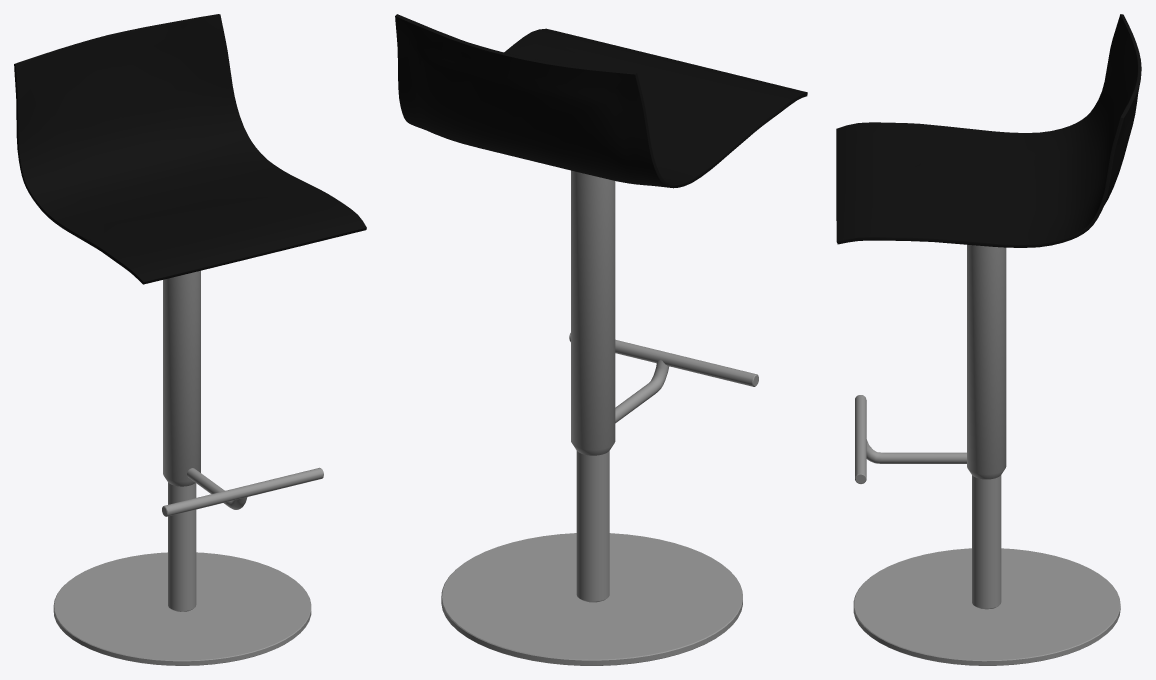
File: Chair 1.FBX
The picture shows the model from 3 angles, left to right: view 1: azimuth 30°, elevation 25°; view 2: azimuth 150°, elevation 25°; view 3: azimuth 270°, elevation 25°; orthographic projection. The views are drawn at different scales.
Visible parts, largest first — view 1: chair 1; view 2: chair 1; view 3: chair 1.
Boxes of the visible parts, bbox=[...] form: chair 1: bbox=[14, 14, 366, 665]; chair 1: bbox=[395, 14, 807, 665]; chair 1: bbox=[836, 14, 1141, 665].
Bounding box in the file's own units: 42.07 × 92.67 × 47.15.
2 materials, 1 textured.
